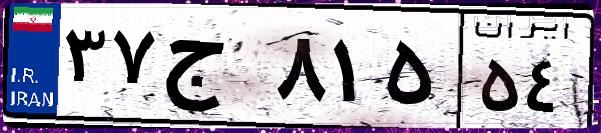1: (330, 28, 385, 110)
3: (57, 26, 110, 100)
4: (525, 38, 570, 115)
5: (385, 28, 445, 110), (475, 38, 525, 113)
7: (110, 28, 158, 98)
8: (270, 28, 330, 110)
ج: (158, 20, 270, 120)
